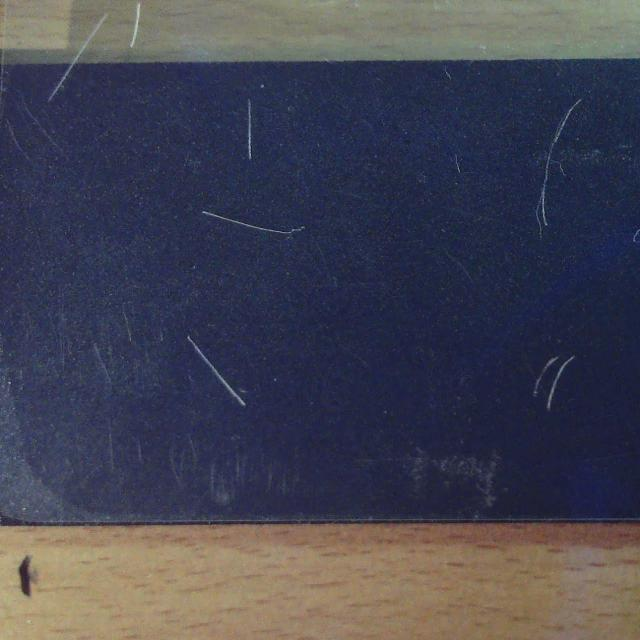defect: (534, 93, 584, 239), (185, 334, 248, 410), (199, 206, 307, 238), (532, 351, 577, 412), (40, 64, 79, 104), (239, 99, 261, 163)
